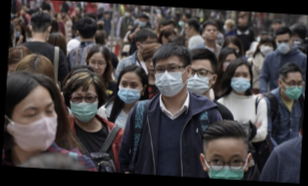with_mask: (7, 98, 58, 152), (206, 149, 247, 178), (154, 60, 187, 96), (68, 89, 99, 122), (186, 64, 212, 95), (115, 78, 142, 104), (229, 69, 251, 94), (282, 76, 303, 100), (274, 35, 292, 53), (221, 56, 236, 71), (259, 42, 274, 55), (137, 17, 147, 28)
without_mask: (87, 57, 107, 76), (144, 55, 155, 76), (203, 25, 218, 40), (182, 24, 192, 37), (237, 15, 248, 24)
